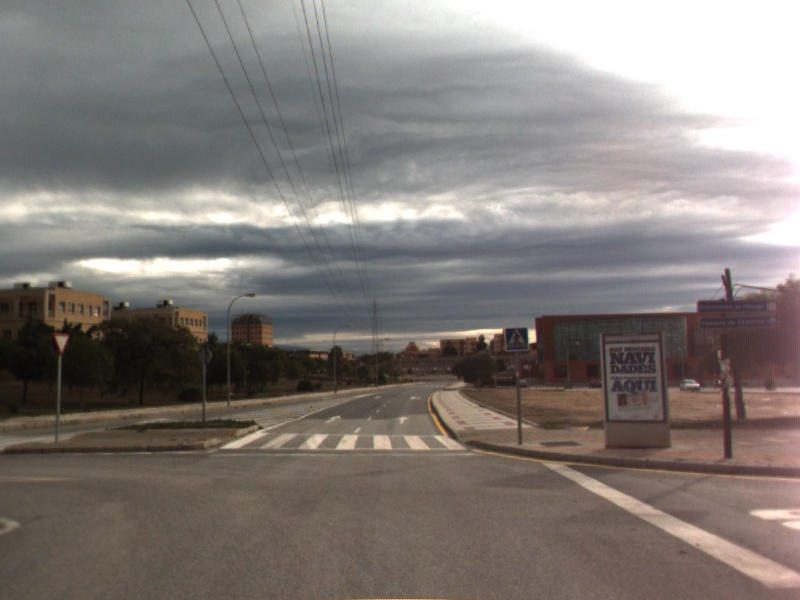STRAIGHT: (323, 413, 344, 425), (394, 414, 411, 425)
